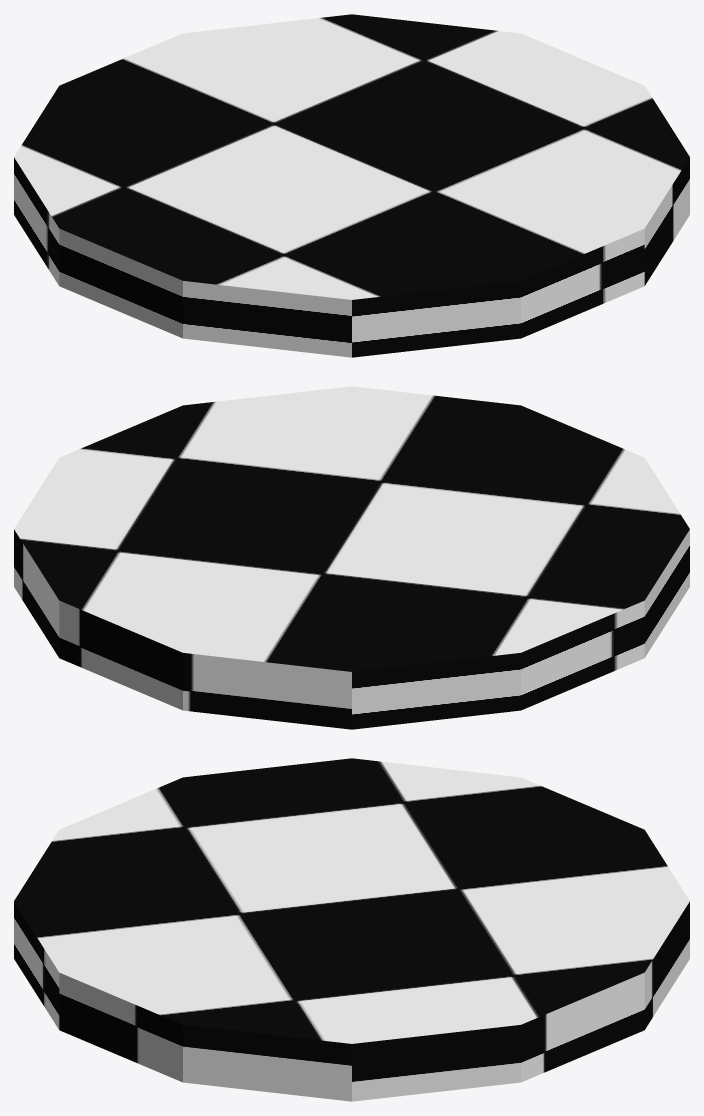
Rendered from finish.glb.
The picture shows the model from 3 angles, top to bottom: view 1: azimuth 30°, elevation 25°; view 2: azimuth 150°, elevation 25°; view 3: azimuth 270°, elevation 25°; orthographic projection.
Parts seen in each view (by area): view 1: Cylinder; view 2: Cylinder; view 3: Cylinder.
Boxes of the visible parts, box(x1,y1,x2,y2) form: Cylinder: box(14, 14, 689, 357); Cylinder: box(14, 386, 689, 729); Cylinder: box(14, 758, 689, 1101).
Bounding box in the file's own units: 6.79 × 0.6397 × 6.79.
1 material, 1 textured.
